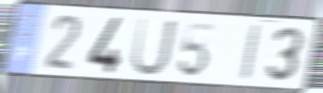2: (41, 13, 82, 73)
3: (263, 25, 305, 83)
4: (85, 14, 124, 76)
5: (176, 20, 219, 78)
I: (239, 22, 264, 83)
U: (129, 15, 180, 78)
